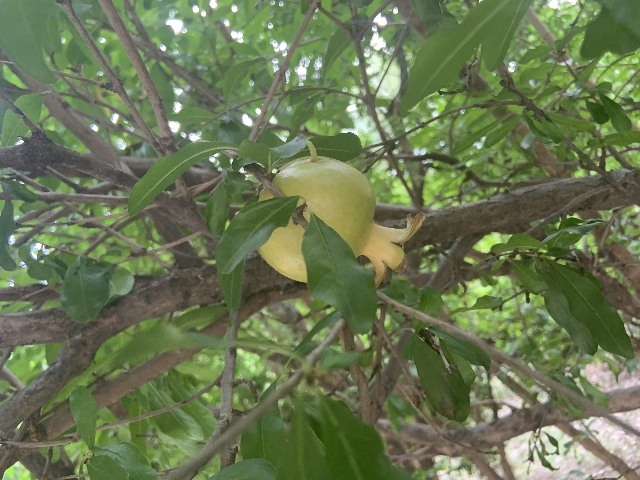mid-growth: (256, 154, 425, 290)
